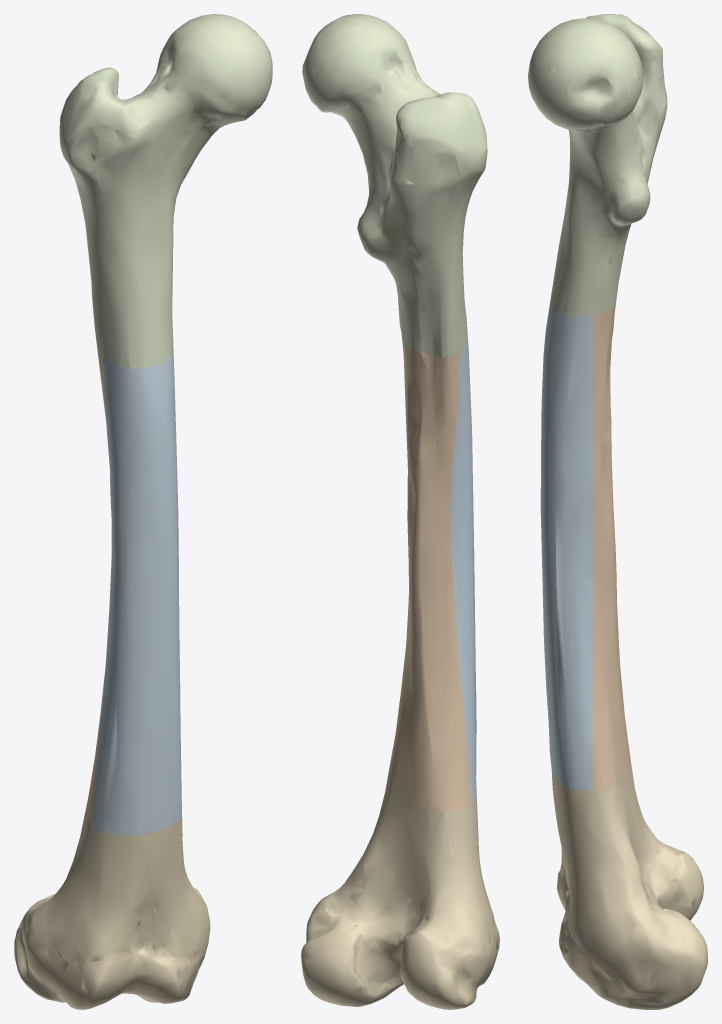
3 views of the same model, side by side, from view 1: azimuth 30°, elevation 25°; view 2: azimuth 150°, elevation 25°; view 3: azimuth 270°, elevation 25° (orthographic). The views are drawn at different scales.
Visible parts, largest first — view 1: 04_Верхняя_секция, 02_Средняя_половина_A, 01_Нижняя_секция, 03_Средняя_половина_B; view 2: 04_Верхняя_секция, 01_Нижняя_секция, 03_Средняя_половина_B, 02_Средняя_половина_A; view 3: 04_Верхняя_секция, 01_Нижняя_секция, 02_Средняя_половина_A, 03_Средняя_половина_B.
Boxes of the visible parts, x1,y1,x2,y2 form: 04_Верхняя_секция: [59, 14, 272, 368]; 02_Средняя_половина_A: [91, 354, 181, 835]; 01_Нижняя_секция: [14, 817, 210, 1009]; 03_Средняя_половина_B: [84, 354, 106, 826]; 04_Верхняя_секция: [302, 14, 487, 356]; 01_Нижняя_секция: [301, 789, 499, 1009]; 03_Средняя_половина_B: [385, 342, 471, 813]; 02_Средняя_половина_A: [401, 341, 476, 803]; 04_Верхняя_секция: [528, 14, 667, 316]; 01_Нижняя_секция: [551, 762, 707, 1009]; 02_Средняя_половина_A: [540, 302, 592, 790]; 03_Средняя_половина_B: [592, 303, 630, 790].
Bounding box in the file's own units: 0.0979 × 0.45 × 0.0738.
